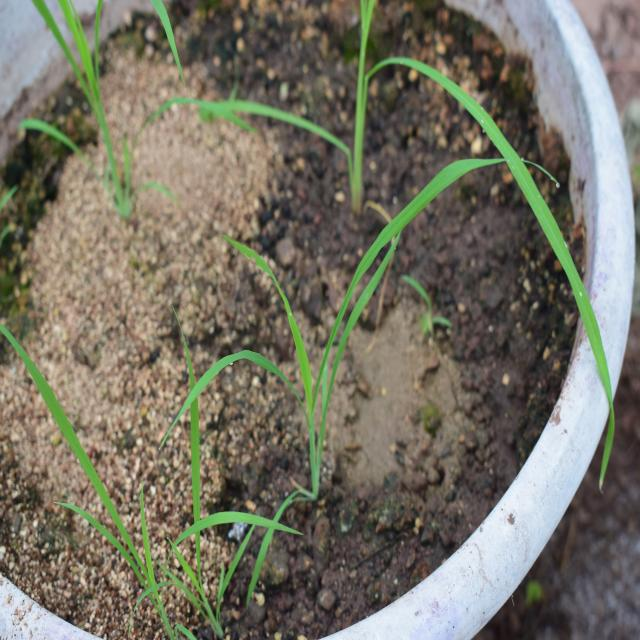barnyard_grass: (138, 174, 462, 551)
